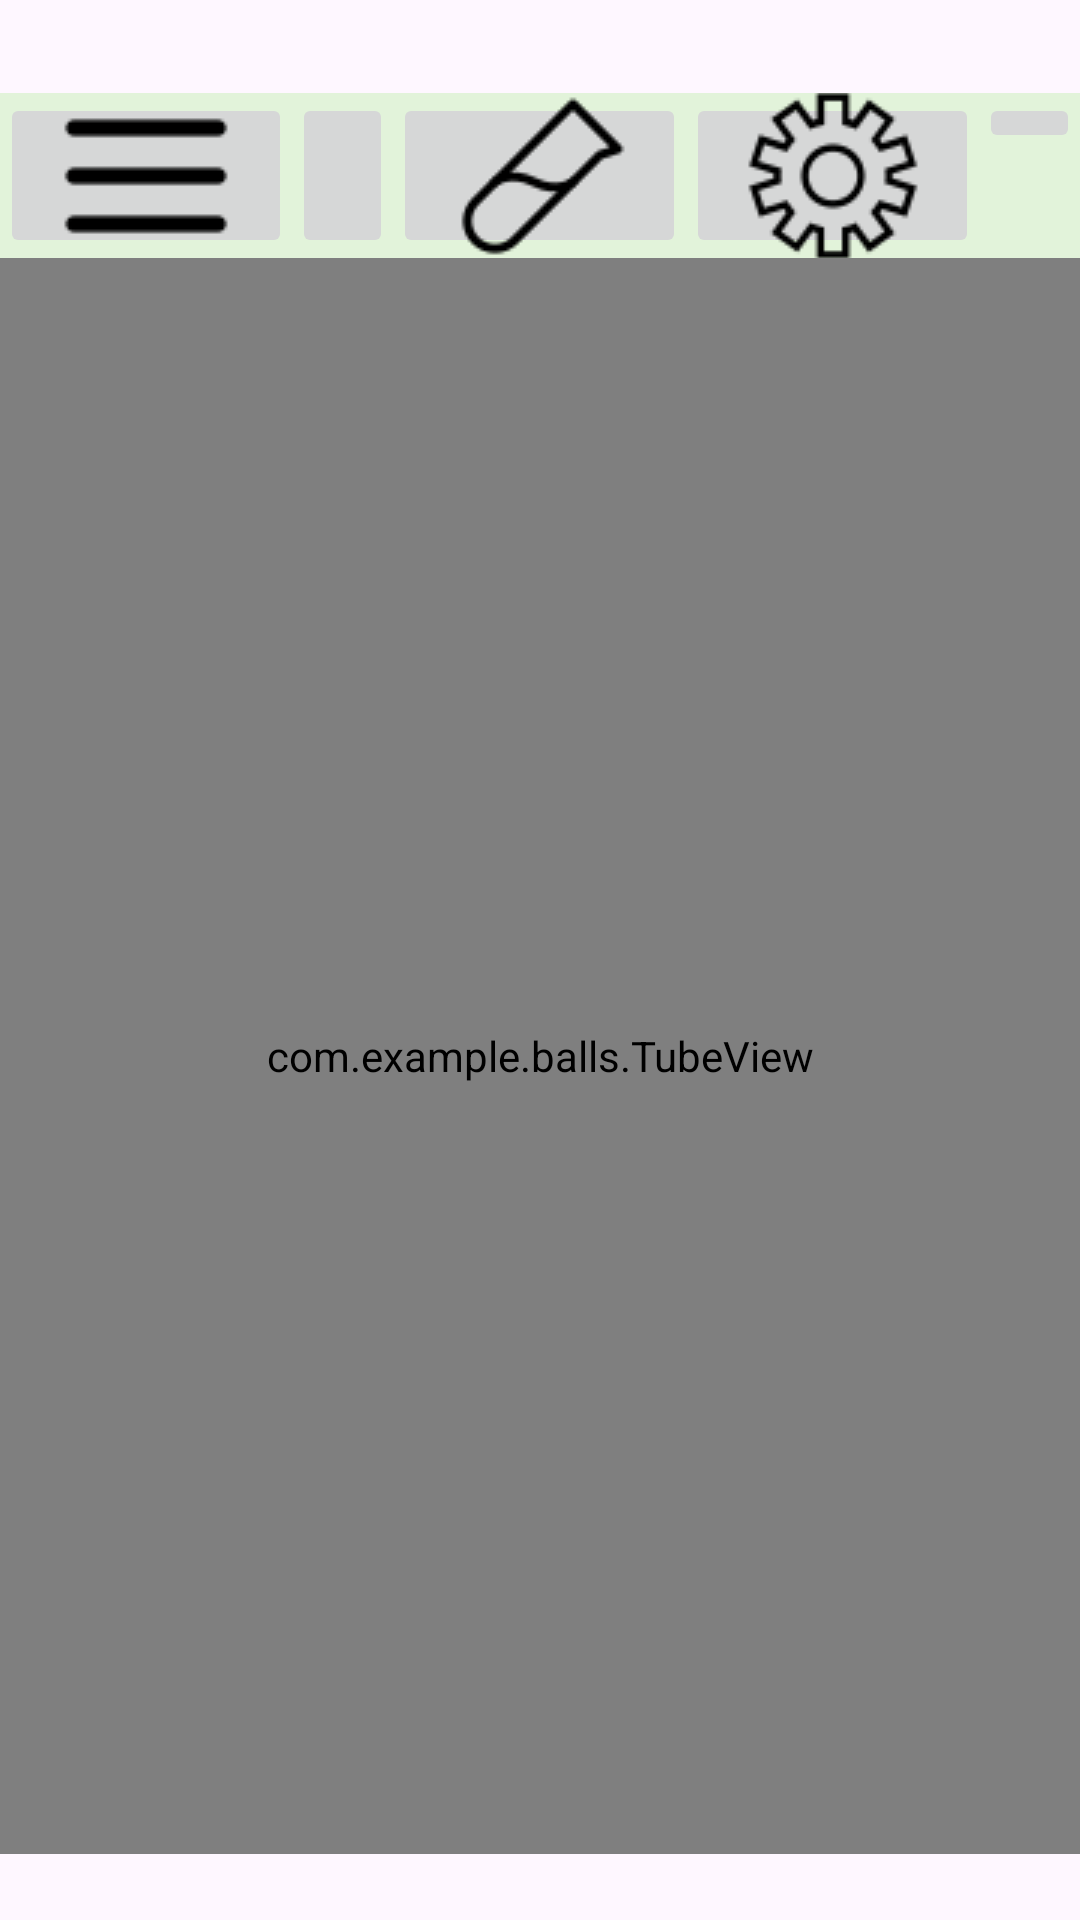

Screen size 1080×1920. Icon name, then its center in pixels as [x,y]:
menu: [146,175]
setting: [832,175]
